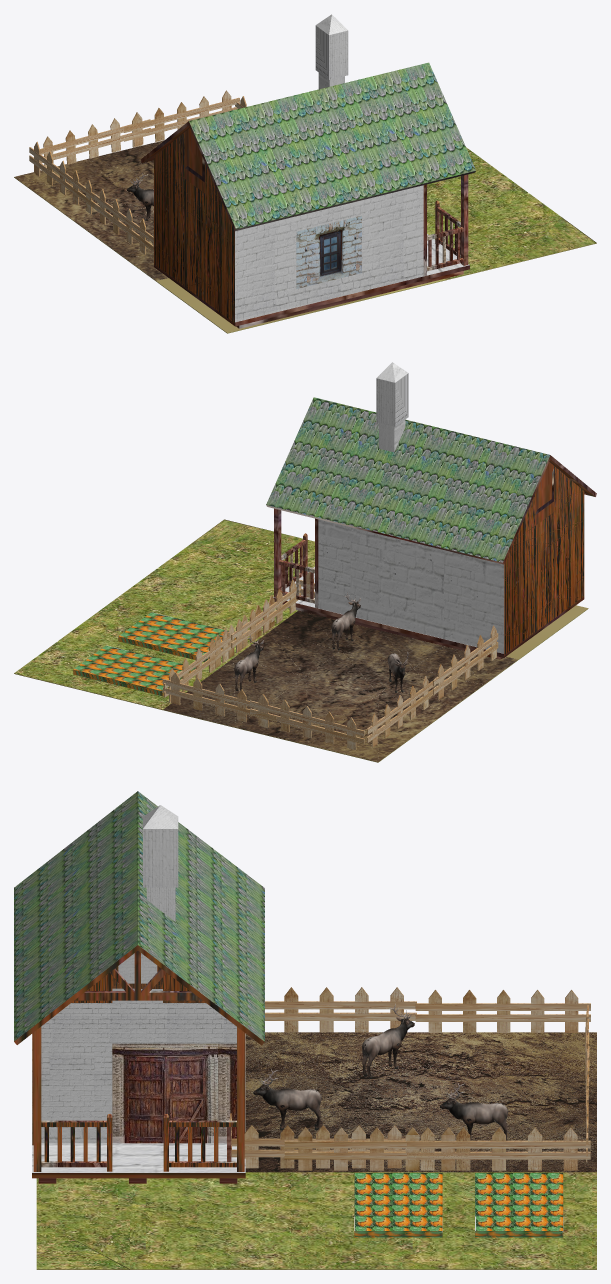
Rendered from ELF_FARM.fbx.
3 renders of one model, top to bottom at view 1: azimuth 30°, elevation 25°; view 2: azimuth 150°, elevation 25°; view 3: azimuth 270°, elevation 25°, orthographic. The views are drawn at different scales.
Parts seen in each view (by area): view 1: Cottage_House, Cubo, baya.006, Elk.001; view 2: Cottage_House, Cubo, baya.006, Cubo.001, Cubo.002, Elk, Elk.002; view 3: Cottage_House, Cubo, baya.006, Cubo.002, Cubo.001, Elk, Elk.002, Elk.001.
Boxes of the visible parts, x1,y1,x2,y2 form: Cottage_House: (140, 14, 476, 328); Cubo: (14, 140, 596, 333); baya.006: (29, 90, 246, 260); Elk.001: (127, 173, 153, 220); Cottage_House: (266, 362, 596, 659); Cubo: (14, 519, 588, 762); baya.006: (163, 572, 498, 750); Cubo.001: (73, 645, 195, 696); Cubo.002: (118, 612, 235, 662); Elk: (331, 592, 360, 650); Elk.002: (234, 634, 263, 690); Cottage_House: (14, 791, 264, 1183); Cubo: (36, 1032, 596, 1269); baya.006: (229, 987, 590, 1170); Cubo.002: (354, 1173, 442, 1237); Cubo.001: (475, 1173, 563, 1237); Elk: (253, 1069, 321, 1130); Elk.002: (440, 1082, 508, 1140); Elk.001: (362, 1004, 414, 1078).
Bounding box in the file's own units: 815 × 522 × 848.
